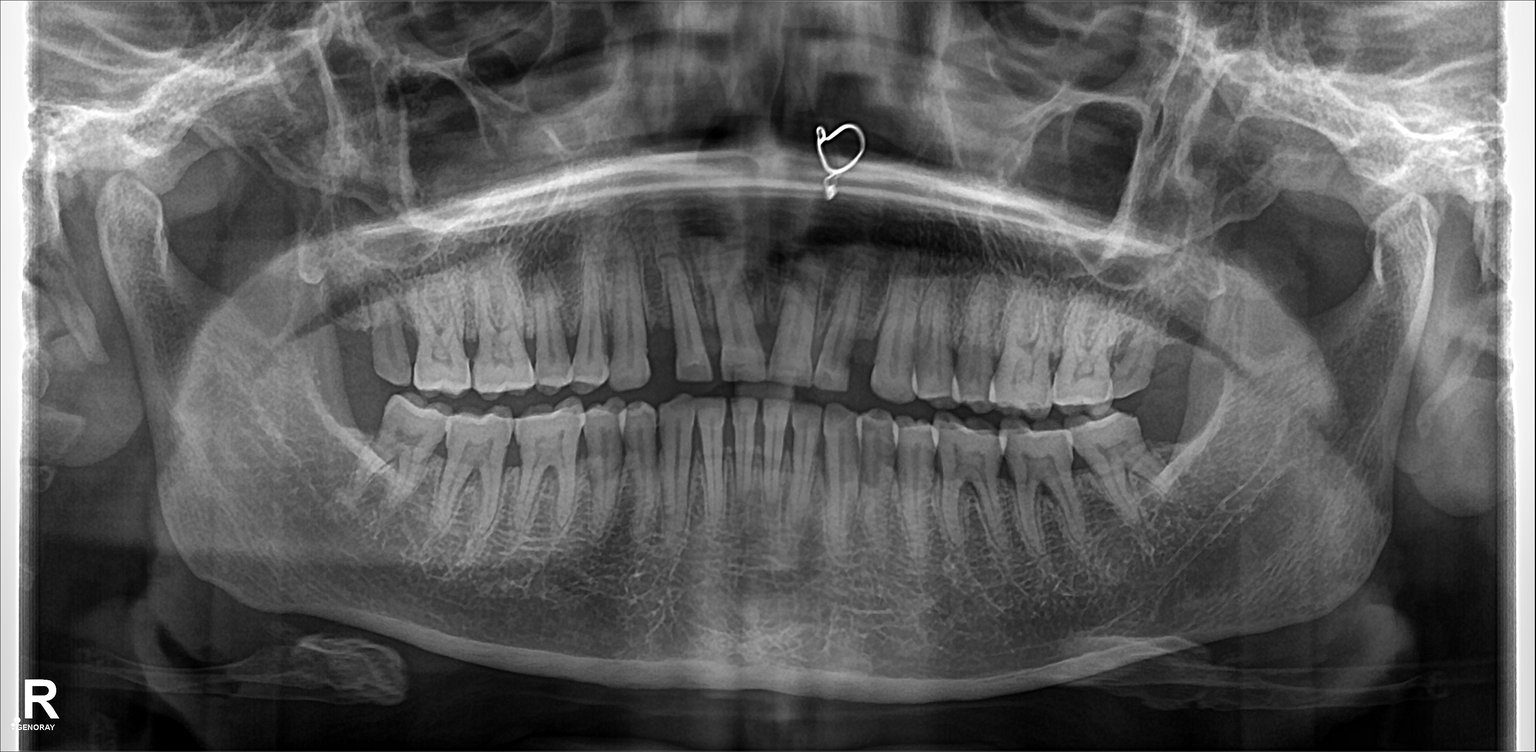Missing Tooth: (318, 281, 368, 380), (326, 387, 372, 478), (1155, 296, 1196, 393), (1145, 411, 1192, 477)
Retained Root: (372, 289, 411, 384), (1108, 311, 1147, 392)
